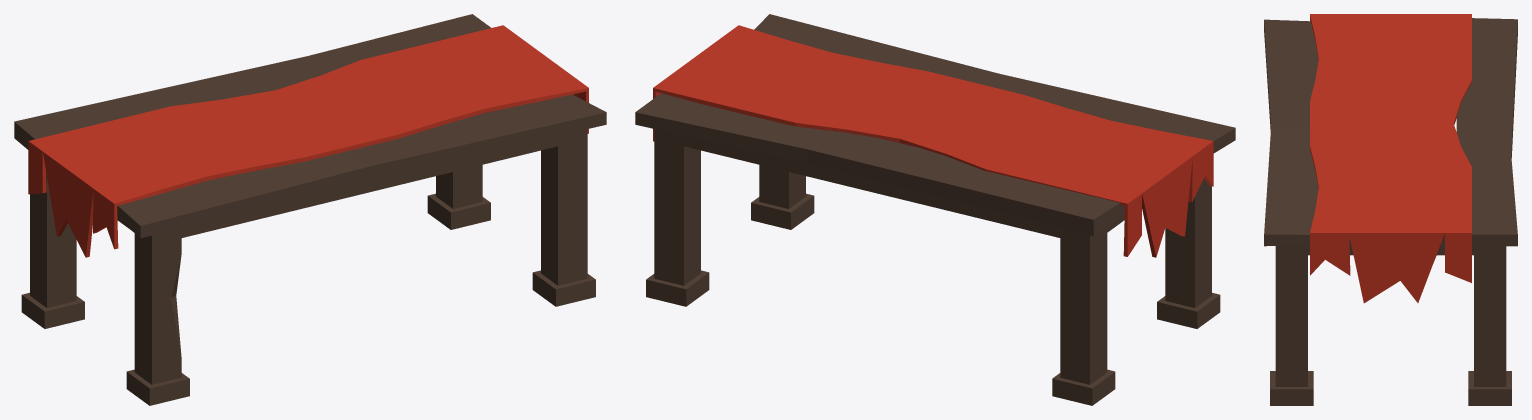
The model's file is table_cloth.fbx.
The picture shows the model from 3 angles, left to right: view 1: azimuth 30°, elevation 25°; view 2: azimuth 150°, elevation 25°; view 3: azimuth 270°, elevation 25°; orthographic projection. The views are drawn at different scales.
Parts seen in each view (by area): view 1: table_cloth; view 2: table_cloth; view 3: table_cloth.
Part boxes in pixels (left/top/right/bottom): table_cloth: left=14, top=14, right=606, bottom=405; table_cloth: left=635, top=14, right=1235, bottom=405; table_cloth: left=1264, top=14, right=1517, bottom=405.
Bounding box in the file's own units: 284 × 109 × 139.
